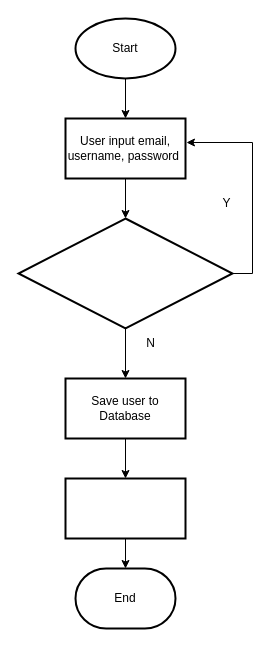
This 278x646 diagram has some shape labels left out. Here are the shapes that lost their labels. From the top down, the centre of each, then its label:
At (x=125, y=273): "email/username already exists?".
At (x=125, y=508): "Register Succesful".
